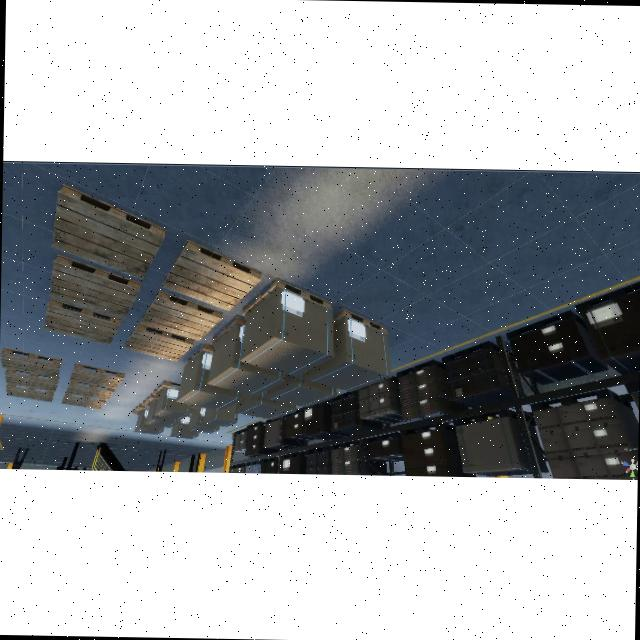wooden_pallet: (52, 181, 168, 279), (161, 238, 261, 311), (49, 253, 142, 318), (140, 290, 223, 340), (241, 277, 332, 318), (332, 308, 387, 333)
